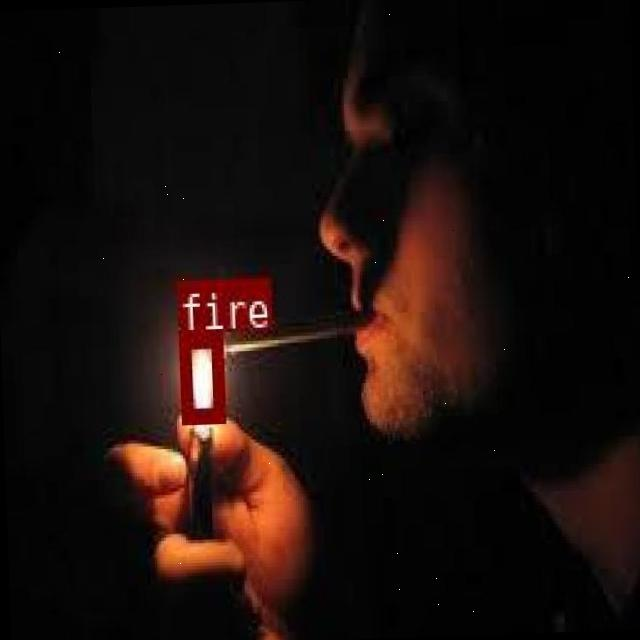fire: (176, 330, 224, 420)
